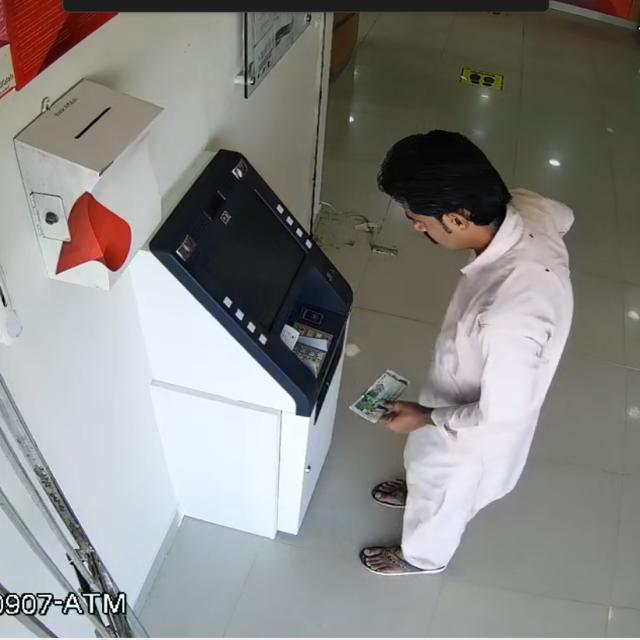note: (341, 357, 420, 437)
